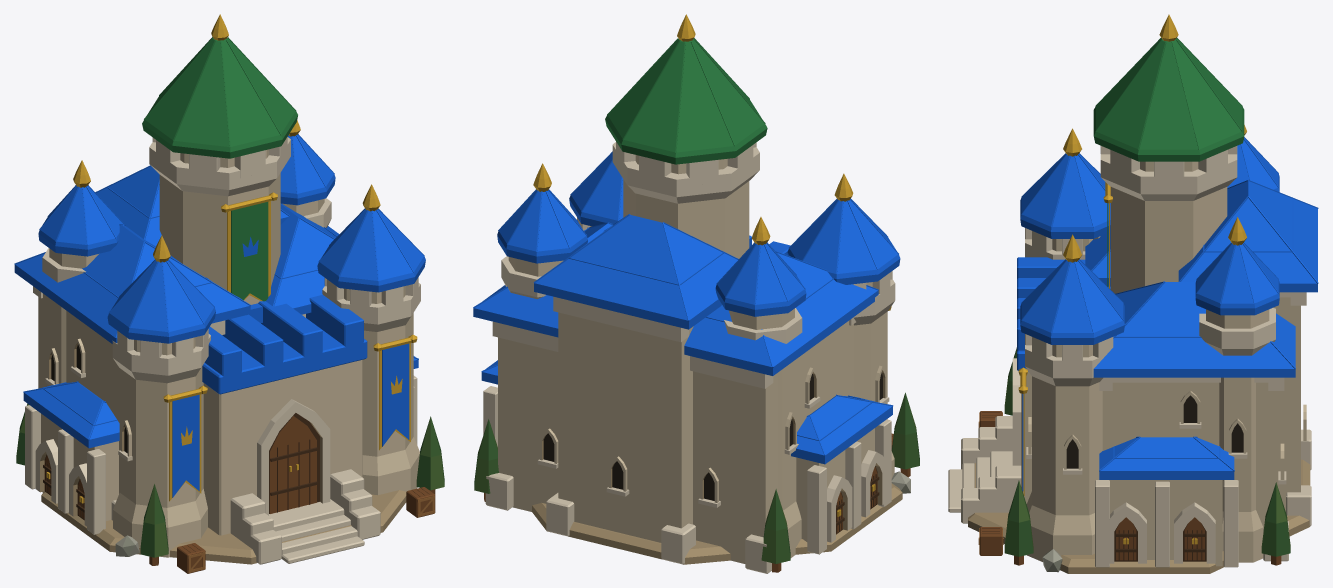
File: metropolis.glb
3 views of the same model, side by side, from view 1: azimuth 30°, elevation 25°; view 2: azimuth 150°, elevation 25°; view 3: azimuth 270°, elevation 25° (orthographic). The views are drawn at different scales.
Parts seen in each view (by area): view 1: metropolis; view 2: metropolis; view 3: metropolis.
Part boxes in pixels (left/top/right/bottom): metropolis: left=14, top=14, right=444, bottom=573; metropolis: left=473, top=14, right=919, bottom=573; metropolis: left=948, top=14, right=1318, bottom=573.
Bounding box in the file's own units: 0.5536 × 0.7407 × 0.5184.
